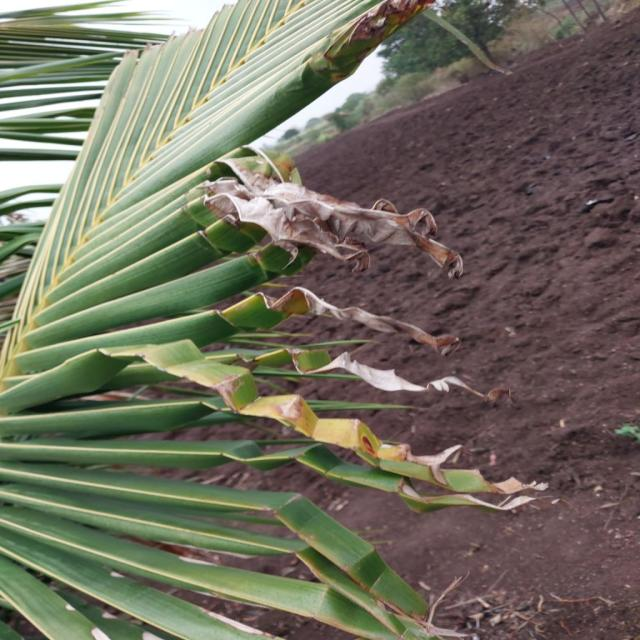leaf rot: (143, 134, 552, 532)
